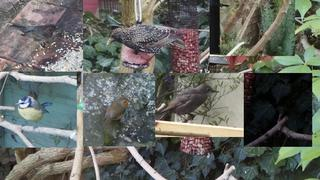blackbird: (9, 24, 59, 51)
blue tit: (15, 96, 53, 132)
robin: (103, 97, 131, 128)
starling: (159, 83, 220, 123), (107, 24, 186, 54)
